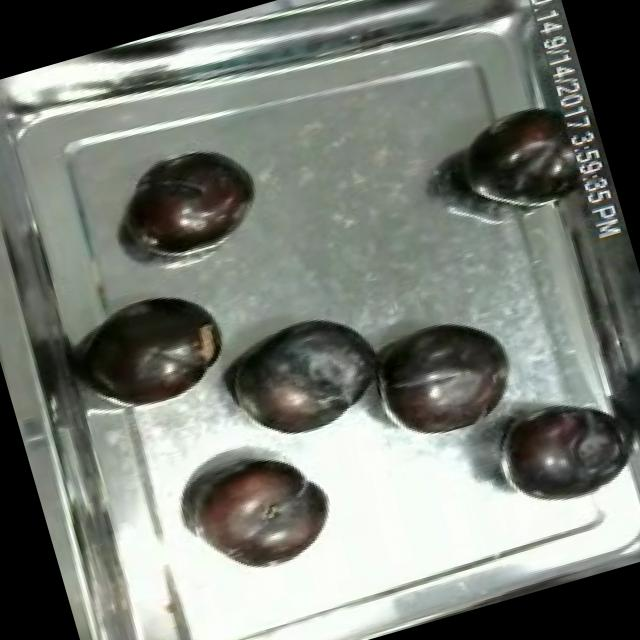Fruit: (211, 298, 398, 456), (354, 298, 530, 456), (171, 434, 344, 590), (77, 278, 241, 424), (112, 133, 271, 270), (488, 384, 638, 520)
